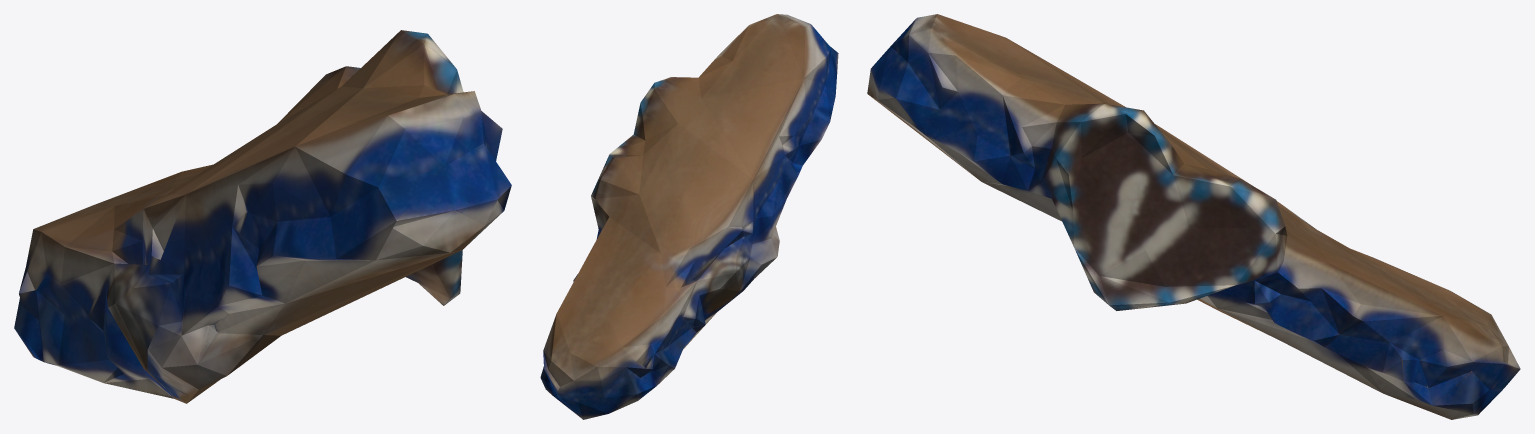
The picture shows the model from 3 angles, left to right: view 1: azimuth 30°, elevation 25°; view 2: azimuth 150°, elevation 25°; view 3: azimuth 270°, elevation 25°; orthographic projection. The views are drawn at different scales.
Visible parts, largest first — view 1: _0.5k_1k; view 2: _0.5k_1k; view 3: _0.5k_1k.
Part boxes in pixels (<box>): _0.5k_1k: <box>14,30,511,403</box>; _0.5k_1k: <box>540,14,838,419</box>; _0.5k_1k: <box>867,14,1520,419</box>.
Size of the model in its own units: 0.0335 by 0.0602 by 0.0927.
Materials: 1 (1 with a texture image).
